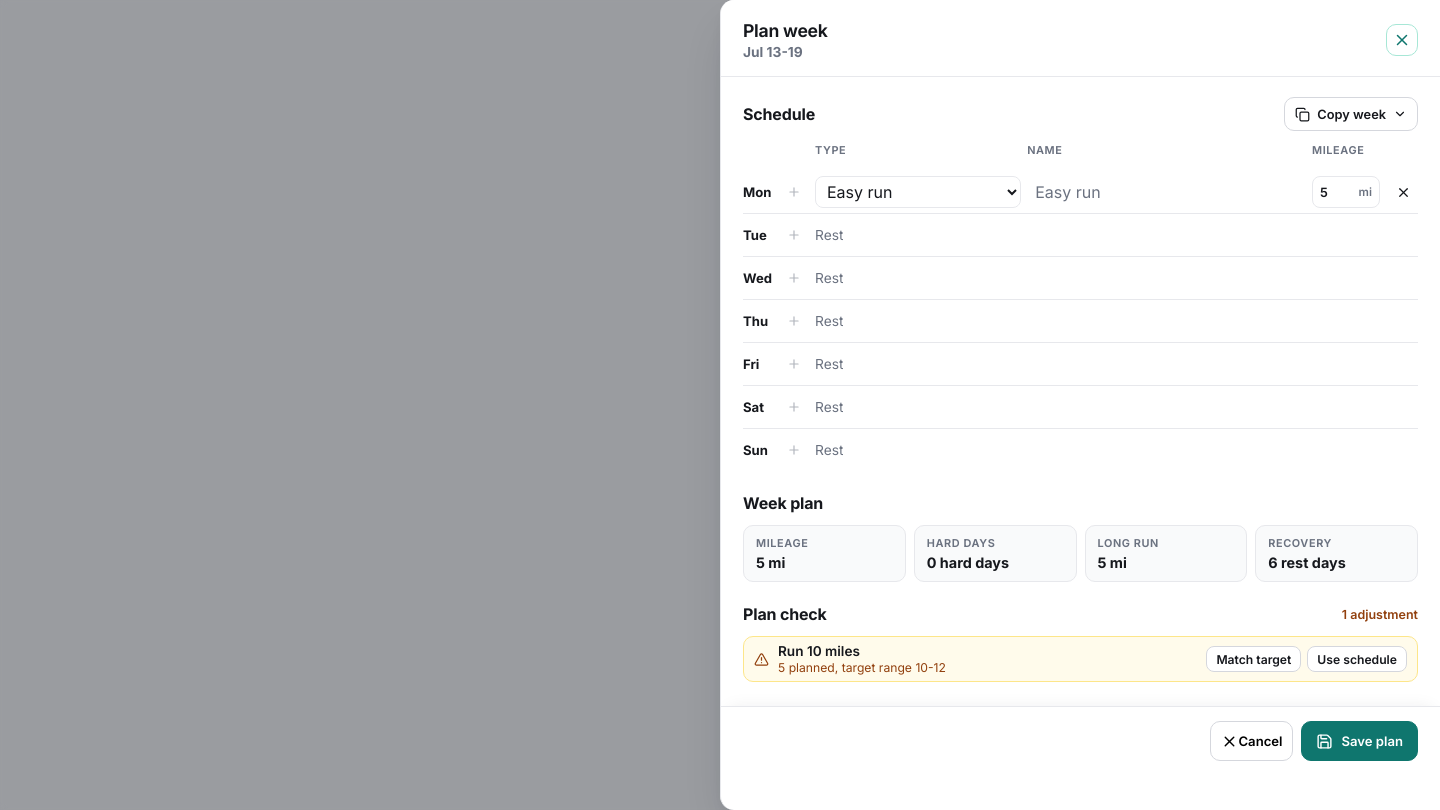
Test case: PlanWeekDrawer › offers the last 12 weeks with date ranges and mileage totals
Click the button "Copy week": (1351, 114) [1284,97,1418,131]
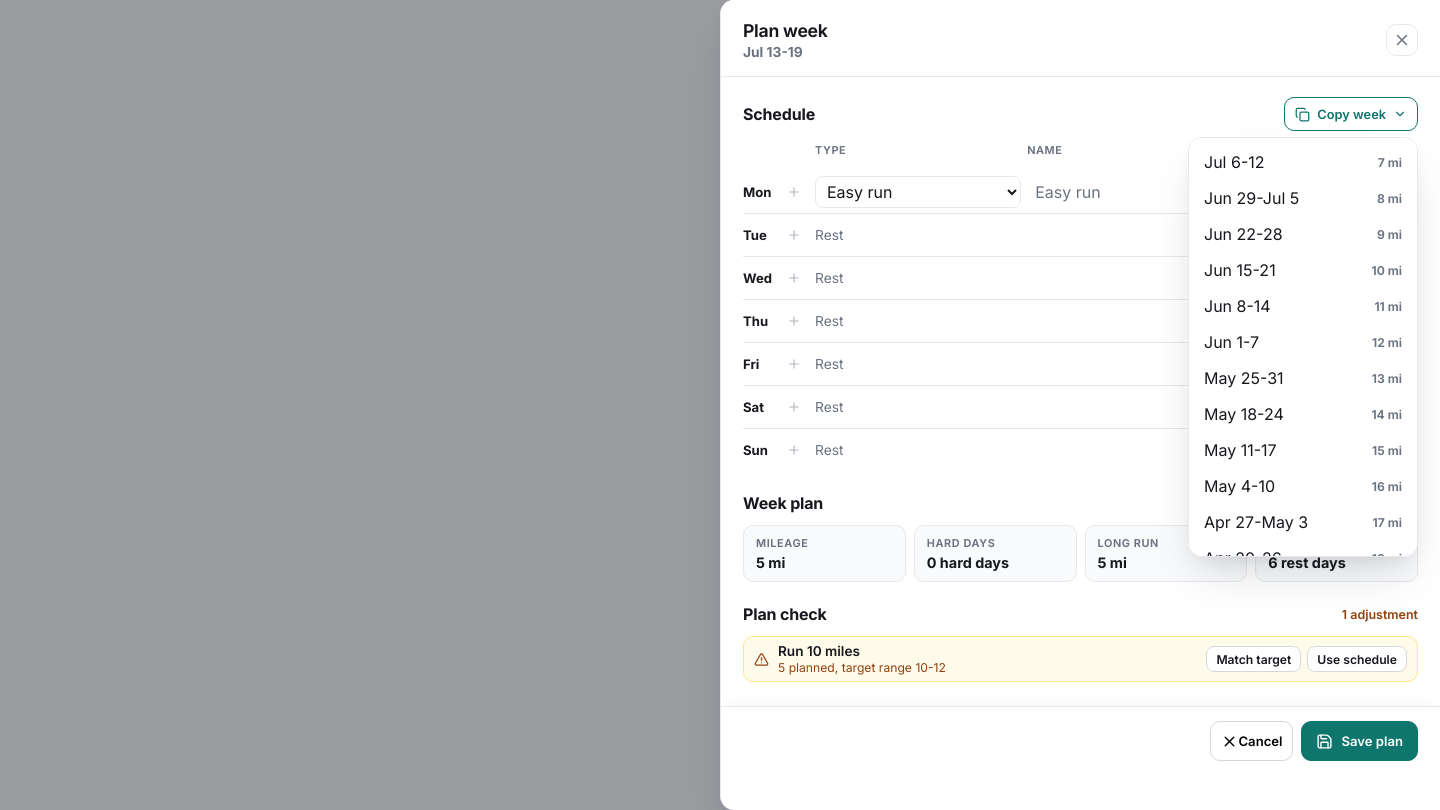
expect the number of menu items is 12: met
expect the menu item with aria-label "Copy Jul 6-12, 7 miles" is enabled: met, box [1195,144,1411,180]
